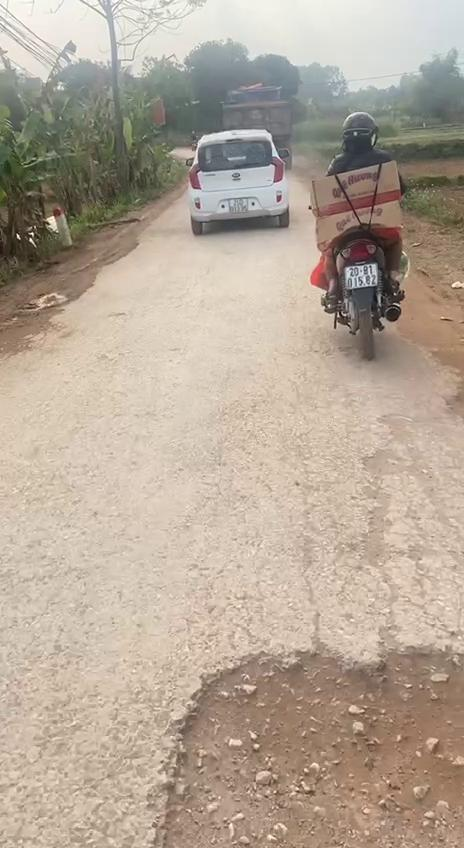pothole: (149, 641, 464, 848), (362, 441, 404, 574)
